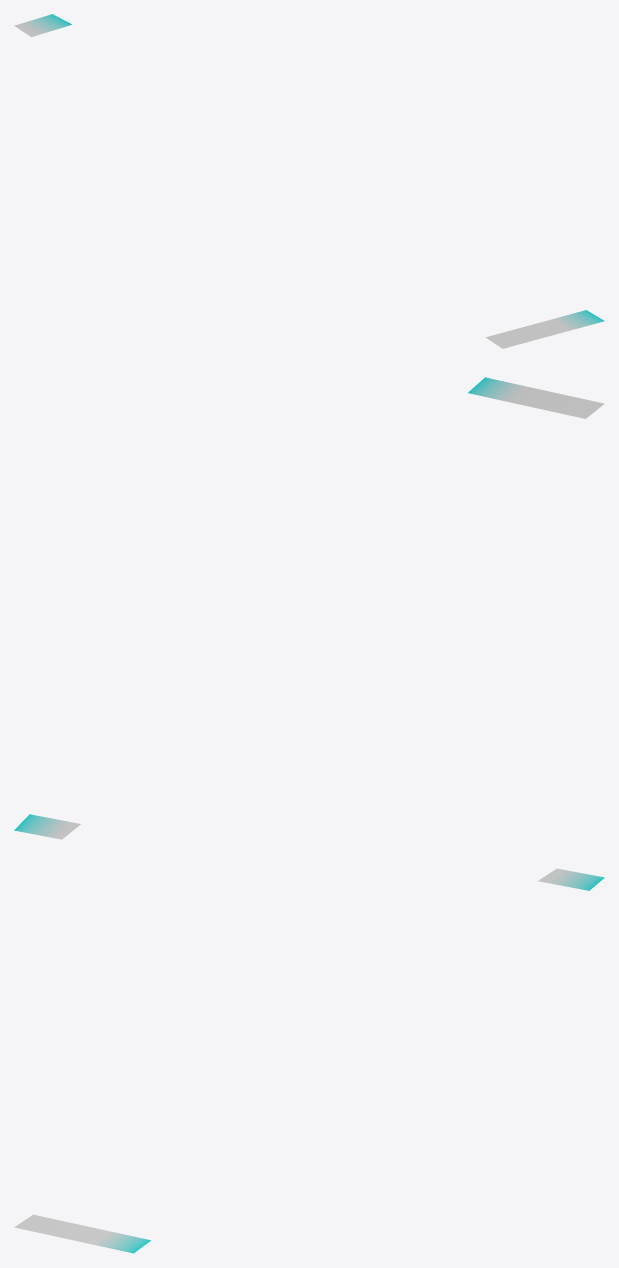
The picture shows the model from 3 angles, top to bottom: view 1: azimuth 30°, elevation 25°; view 2: azimuth 150°, elevation 25°; view 3: azimuth 330°, elevation 25°; orthographic projection. The views are drawn at different scales.
Parts seen in each view (by area): view 1: SpaceCenter_Long3_GenerateRoad_Asphalt_PCGMesh_Decal_Mesh_x9; view 2: SpaceCenter_Long3_GenerateRoad_Asphalt_PCGMesh_Decal_Mesh_x9; view 3: SpaceCenter_Long3_GenerateRoad_Asphalt_PCGMesh_Decal_Mesh_x9.
Part boxes in pixels (box(x1,y1,x2,y2)): SpaceCenter_Long3_GenerateRoad_Asphalt_PCGMesh_Decal_Mesh_x9: box(14, 14, 604, 348); SpaceCenter_Long3_GenerateRoad_Asphalt_PCGMesh_Decal_Mesh_x9: box(14, 377, 604, 839); SpaceCenter_Long3_GenerateRoad_Asphalt_PCGMesh_Decal_Mesh_x9: box(14, 868, 604, 1253).
Size of the model in its own units: 1022 by 126 by 39.9.
